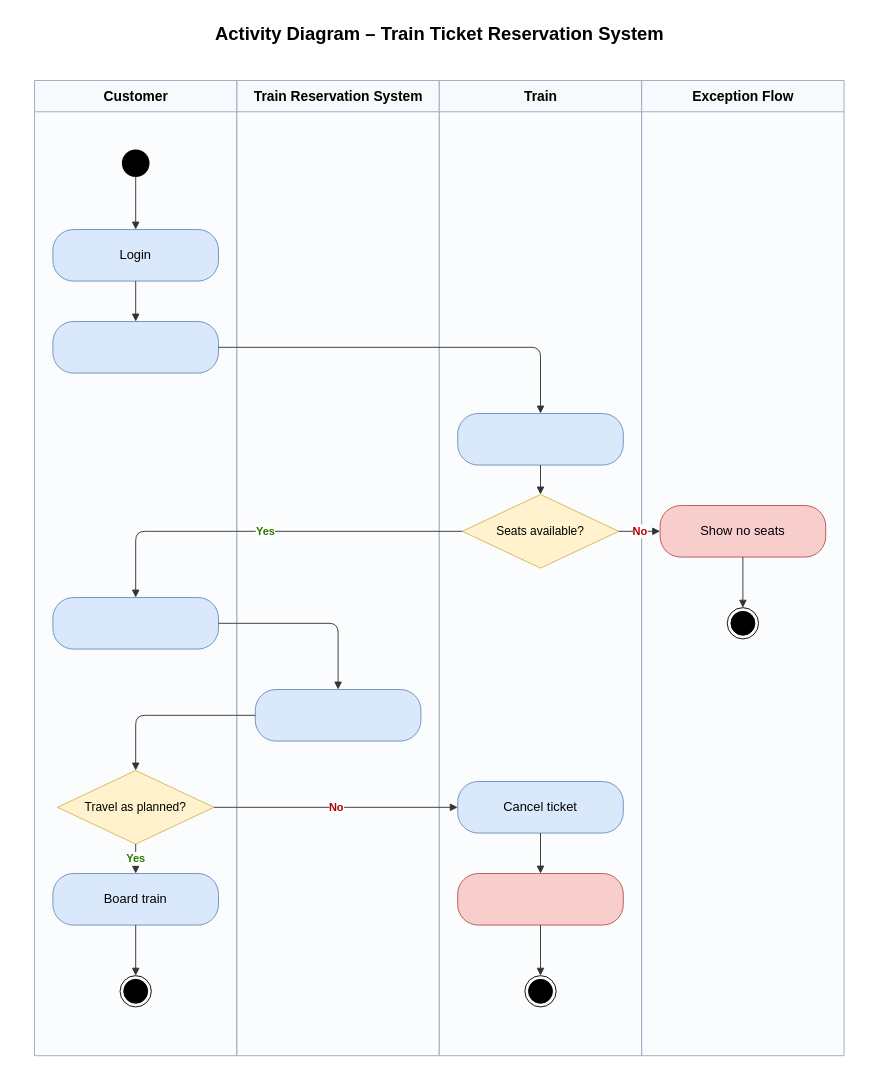
The diagram is 878 pixels wide and 1072 high, and some of its shapes have lost their labels. The centre of each missing label's shape, as x and y in pixels:
"Book ticket" goes at point 135,623.
"Check seat availability" goes at point 540,439.
"Confirm and update seats" goes at point 337,715.
"Refund by time left" goes at point 540,899.
"Search trains" goes at point 135,347.
